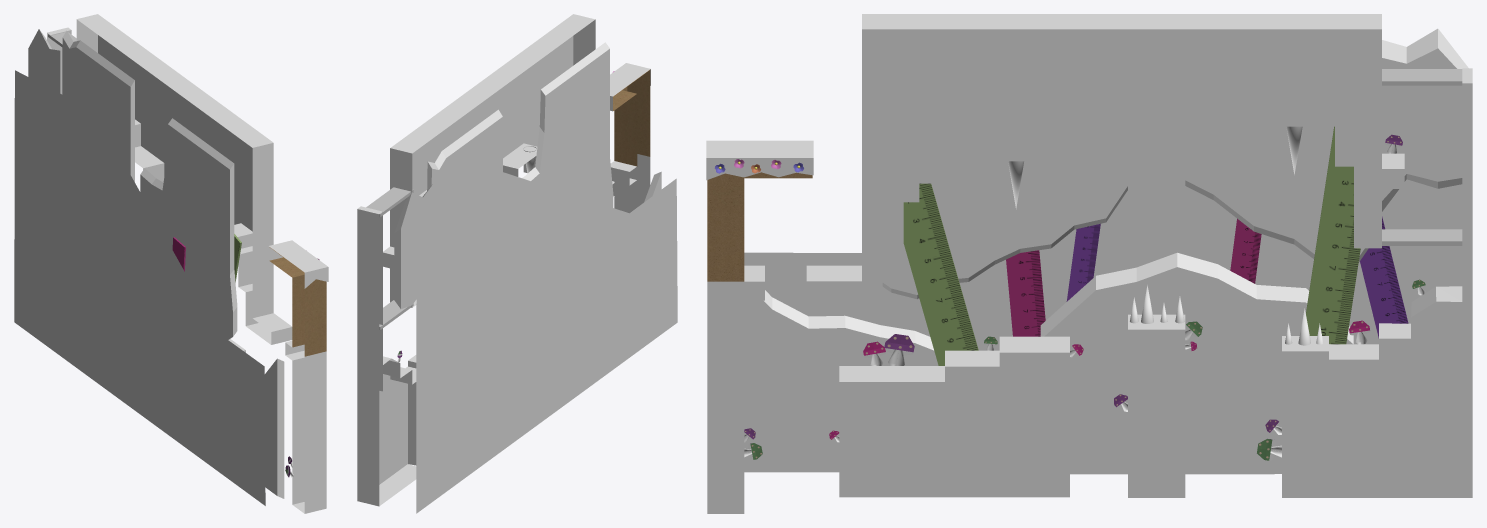
Rendered from Pantalla6-DEF (1).fbx.
3 renders of one model, left to right at view 1: azimuth 30°, elevation 25°; view 2: azimuth 150°, elevation 25°; view 3: azimuth 270°, elevation 25°, orthographic. The views are drawn at different scales.
Parts seen in each view (by area): view 1: Plane.047, Pantalla6, Plane.019; view 2: Plane.047, Pantalla6, Plane.019, Cube.002, Cube.001; view 3: Pantalla6, Plane.019, Plane.047, regla rosa.001, regla rosa.002, regla rosa.003, regla rosa.006, regla rosa.005, regla rosa.004, Cube.001, Cube.002.
Part boxes in pixels (<box>): Plane.047: <box>14,70,265,505</box>; Pantalla6: <box>47,14,328,513</box>; Plane.019: <box>28,29,284,498</box>; Plane.047: <box>416,171,677,513</box>; Pantalla6: <box>357,14,650,506</box>; Plane.019: <box>394,42,661,308</box>; Cube.002: <box>366,187,413,217</box>; Cube.001: <box>379,300,413,329</box>; Pantalla6: <box>706,14,1472,513</box>; Plane.019: <box>744,28,1468,474</box>; Plane.047: <box>744,179,1462,350</box>; regla rosa.001: <box>903,183,978,365</box>; regla rosa.002: <box>1306,126,1360,344</box>; regla rosa.003: <box>1006,250,1045,336</box>; regla rosa.006: <box>1360,216,1408,338</box>; regla rosa.005: <box>1066,223,1100,301</box>; regla rosa.004: <box>1230,218,1261,283</box>; Cube.001: <box>1382,229,1462,245</box>; Cube.002: <box>1382,69,1462,85</box>.
Bounding box in the file's own units: 1029 × 5617 × 8058.
